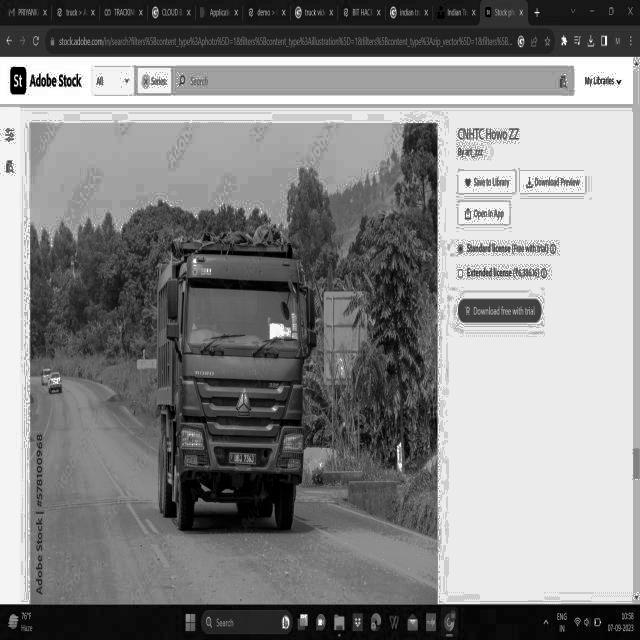HCV: (143, 215, 333, 559)
